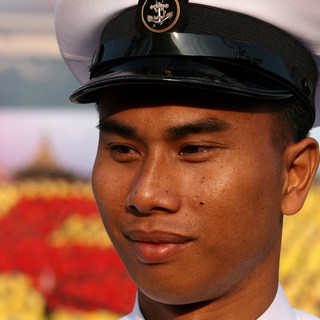eye: (172, 139, 220, 164), (104, 138, 144, 163)
